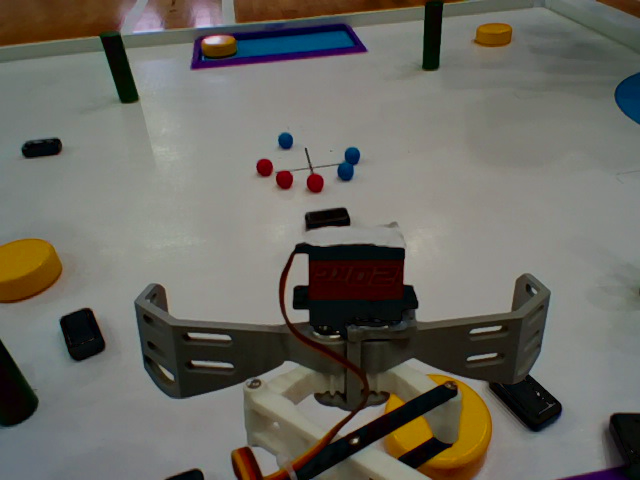black: (56, 305, 108, 366), (300, 207, 356, 227), (20, 139, 65, 158)
blue: (334, 161, 357, 181), (343, 145, 361, 163), (278, 134, 293, 149)
kuang: (187, 24, 375, 72)
red: (306, 170, 325, 195), (275, 170, 295, 189), (257, 159, 273, 178)
yellow: (2, 237, 61, 307), (471, 21, 519, 48), (200, 36, 242, 56)
zhuzi: (1, 333, 42, 436), (97, 30, 142, 106), (421, 2, 446, 73)
